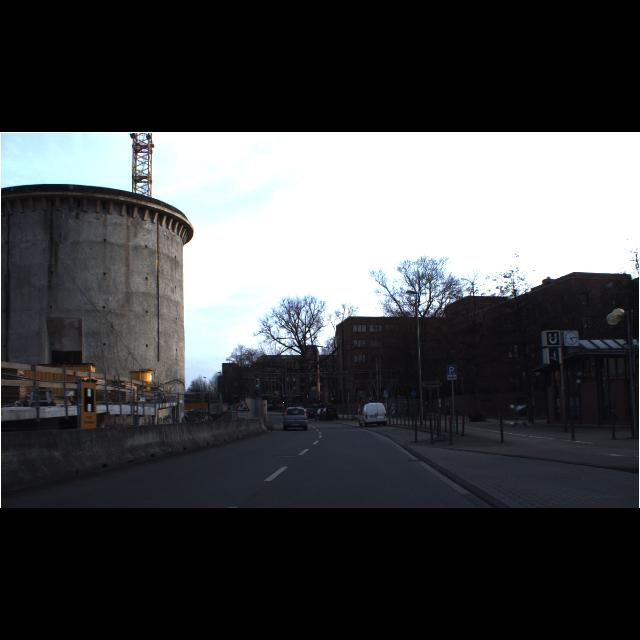danger: (234, 398, 250, 412)
